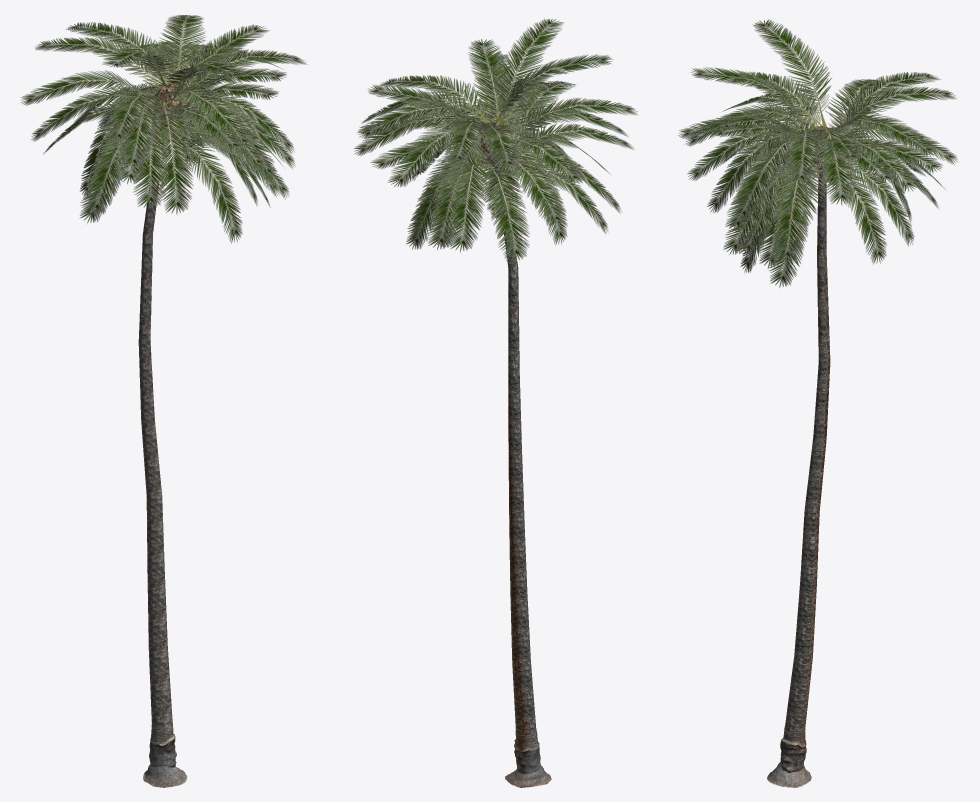
The model's file is palm_tree_palmlow3_terrain3d.glb.
The picture shows the model from 3 angles, left to right: view 1: azimuth 30°, elevation 25°; view 2: azimuth 150°, elevation 25°; view 3: azimuth 270°, elevation 25°; orthographic projection. The views are drawn at different scales.
Parts seen in each view (by area): view 1: PALMLOW3_Terrain3D; view 2: PALMLOW3_Terrain3D; view 3: PALMLOW3_Terrain3D.
Part boxes in pixels (left/top/right/bottom): PALMLOW3_Terrain3D: left=20, top=15, right=307, bottom=787; PALMLOW3_Terrain3D: left=353, top=18, right=638, bottom=787; PALMLOW3_Terrain3D: left=678, top=19, right=957, bottom=787.
Size of the model in its own units: 3.98 by 11.07 by 4.04.
3 materials, 3 textured.
